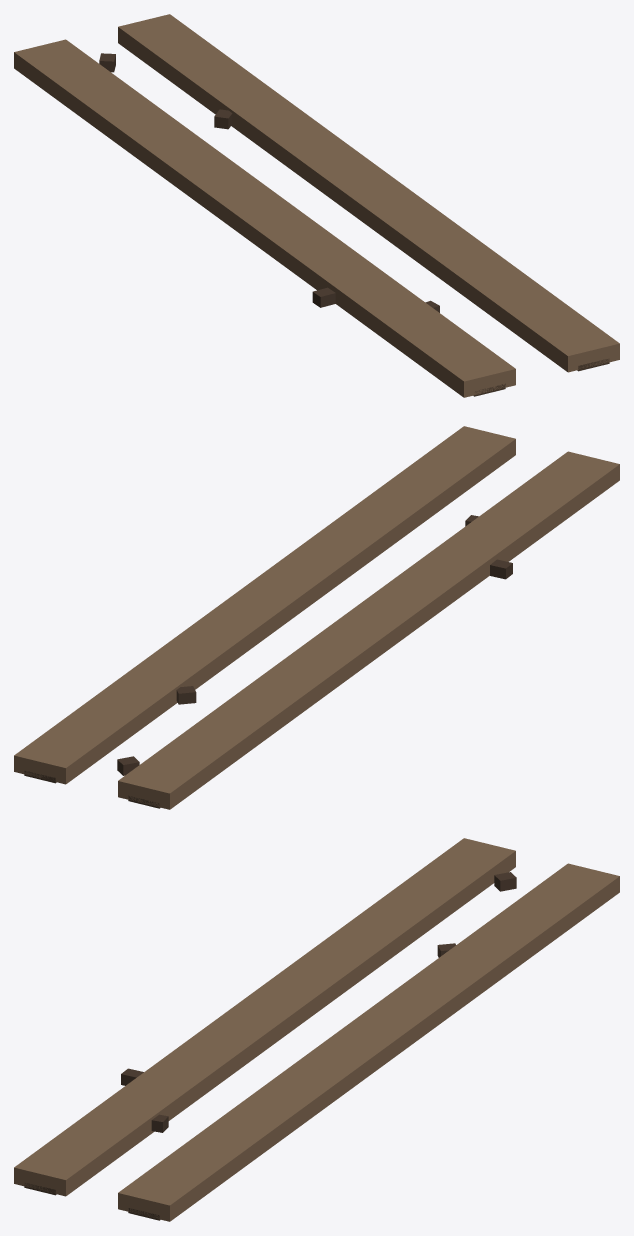
File: crop_tilled.glb
3 views of the same model, one above another, from view 1: azimuth 30°, elevation 25°; view 2: azimuth 150°, elevation 25°; view 3: azimuth 330°, elevation 25° (orthographic).
Parts seen in each view (by area): view 1: room_crop_tilled; view 2: room_crop_tilled; view 3: room_crop_tilled.
Part boxes in pixels (left/top/right/bottom): room_crop_tilled: left=14, top=14, right=619, bottom=397; room_crop_tilled: left=14, top=426, right=619, bottom=809; room_crop_tilled: left=14, top=838, right=619, bottom=1221.
Size of the model in its own units: 0.672 by 0.065 by 3.
